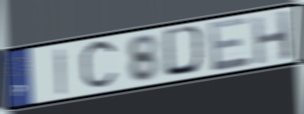8: (125, 33, 161, 84)
C: (78, 36, 120, 94)
D: (163, 23, 209, 79)
E: (207, 14, 253, 74)
H: (250, 7, 295, 66)
I: (54, 46, 67, 97)
